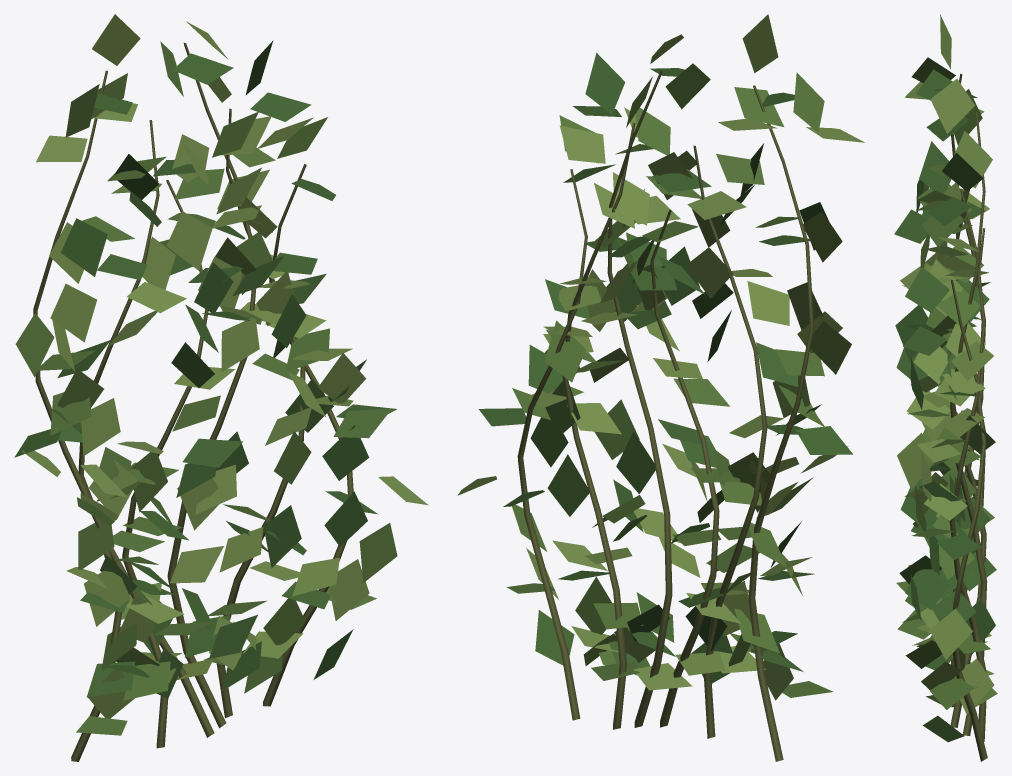
Rendered from climbing_vine.glb.
3 views of the same model, side by side, from view 1: azimuth 30°, elevation 25°; view 2: azimuth 150°, elevation 25°; view 3: azimuth 270°, elevation 25° (orthographic). The views are drawn at different scales.
Visible parts, largest first — view 1: veg_climbing_vine_lod0; view 2: veg_climbing_vine_lod0; view 3: veg_climbing_vine_lod0.
Boxes of the visible parts, x1,y1,x2,y2 form: veg_climbing_vine_lod0: (14, 14, 428, 761); veg_climbing_vine_lod0: (457, 14, 864, 761); veg_climbing_vine_lod0: (894, 14, 997, 761).
Size of what is drawn, in the model's own units: 1.57 by 2.75 by 0.3855.
